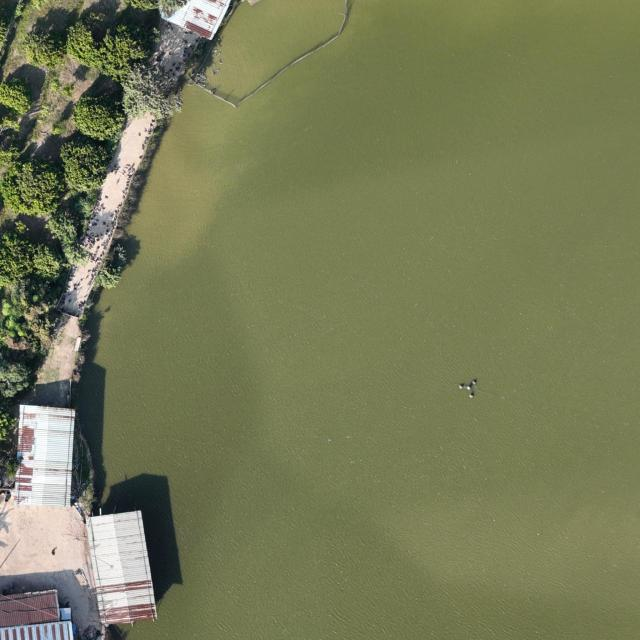Tree: (0, 160, 65, 216), (0, 231, 62, 289), (121, 62, 183, 119), (58, 139, 113, 194), (99, 20, 151, 74), (72, 94, 127, 141), (46, 216, 92, 268), (65, 18, 102, 70), (21, 28, 66, 70), (0, 74, 34, 115), (0, 360, 30, 399)
